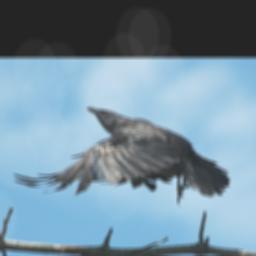Crow: (8, 105, 228, 207)
